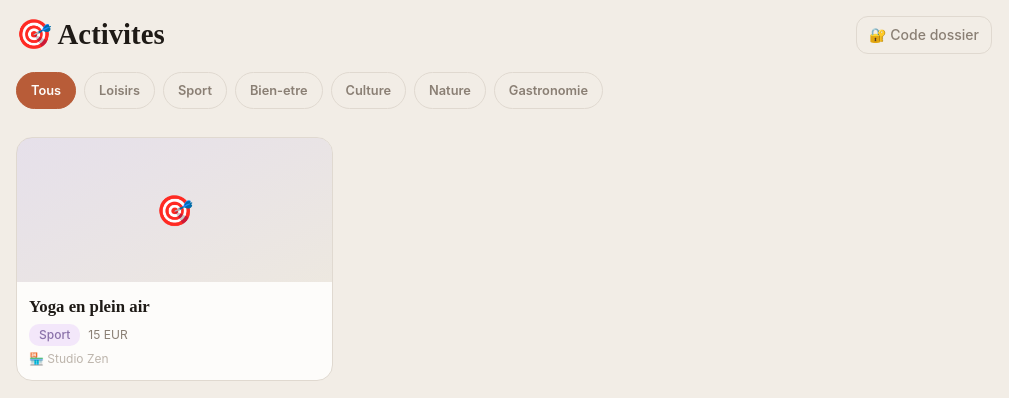
Test: ActivitiesPageClient › filters by category
Click the button "Culture".
click(368, 91)  # box [330,72,406,109]
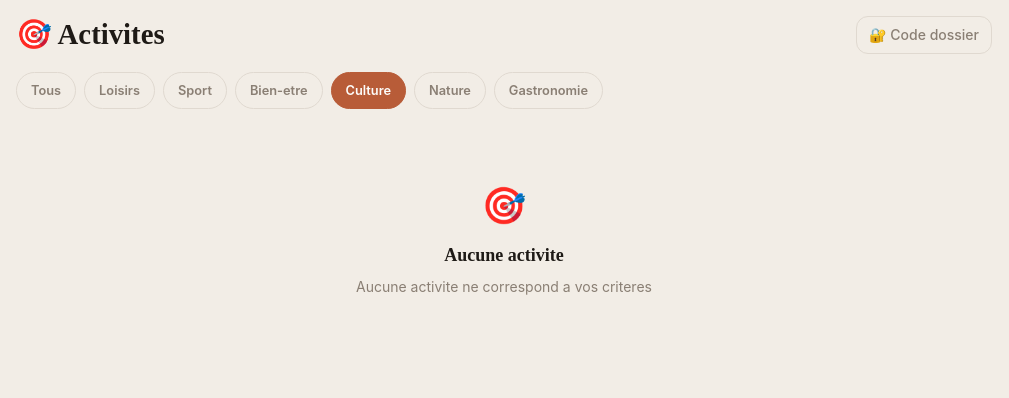
Now the link "Yoga en plein air" is gone
